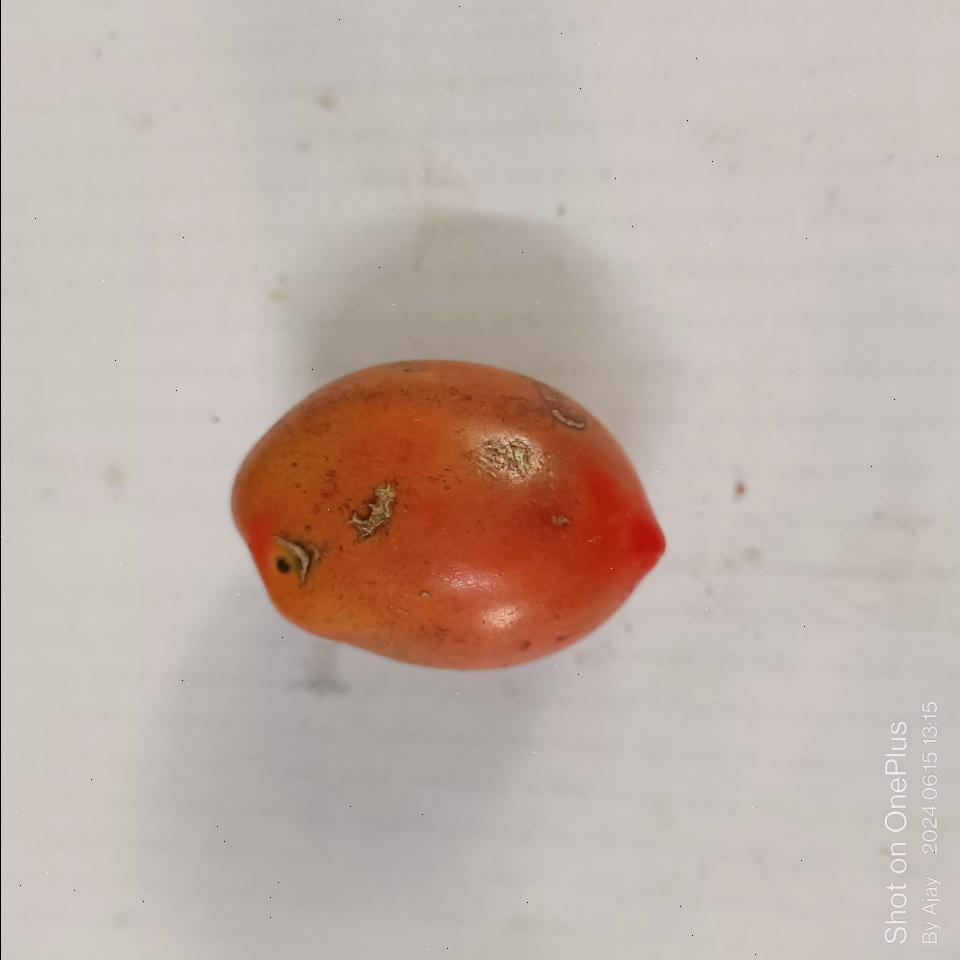Bacterial_Spot: (342, 475, 398, 545), (474, 437, 547, 483), (270, 533, 316, 579), (549, 514, 566, 530)
